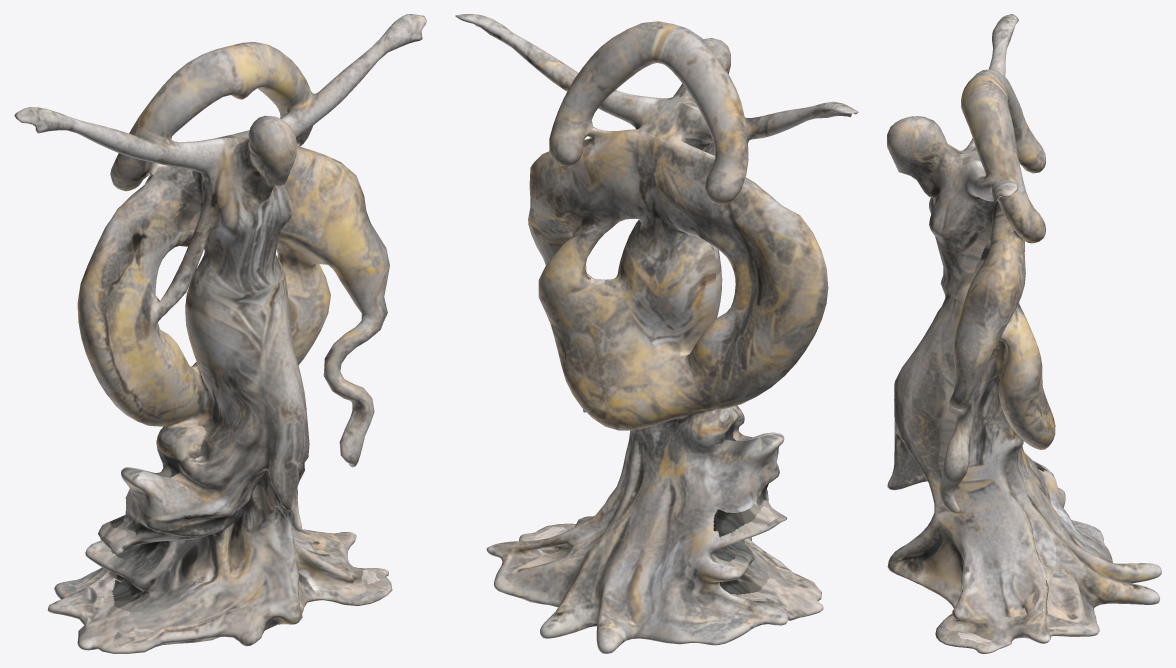
The model's file is queen_marika_statue_elden_ring.glb.
3 renders of one model, left to right at view 1: azimuth 30°, elevation 25°; view 2: azimuth 150°, elevation 25°; view 3: azimuth 270°, elevation 25°, orthographic. The views are drawn at different scales.
Parts seen in each view (by area): view 1: Object_2; view 2: Object_2; view 3: Object_2.
Boxes of the visible parts, left/top/right/bottom form: Object_2: left=14, top=14, right=426, bottom=653; Object_2: left=455, top=14, right=858, bottom=653; Object_2: left=887, top=14, right=1161, bottom=653.
Bounding box in the file's own units: 2.92 × 3.85 × 1.88.
Materials: 1 (1 with a texture image).
